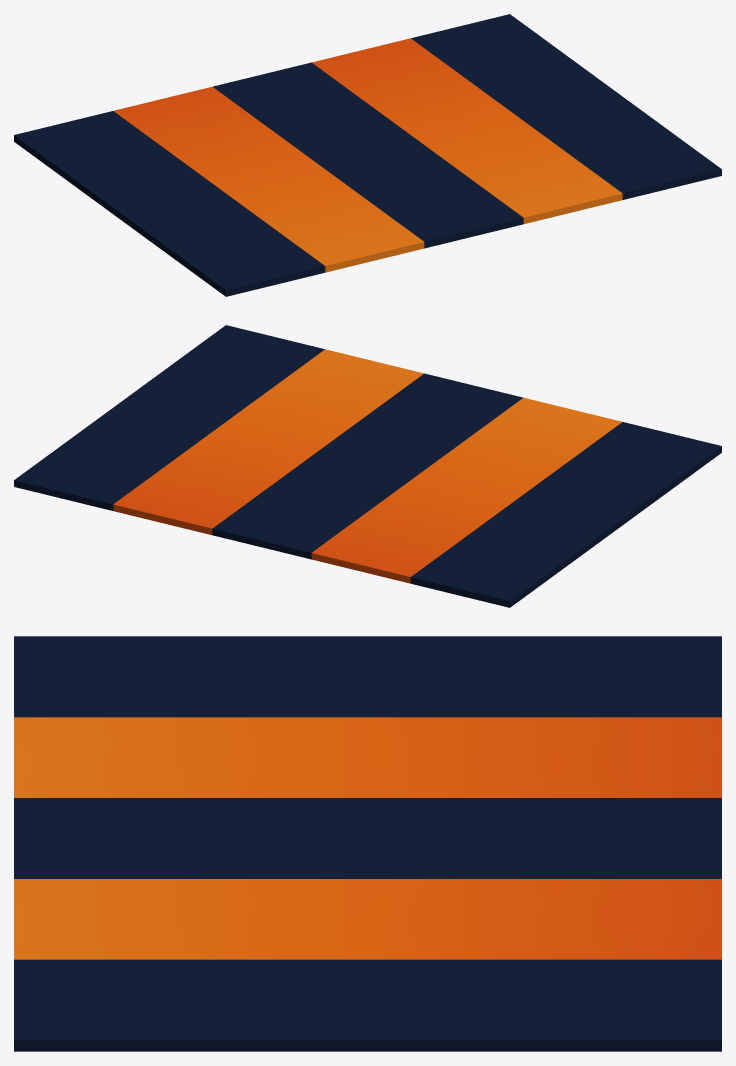
The model's file is Prop_Rug_Orangestripes.fbx.
3 views of the same model, one above another, from view 1: azimuth 30°, elevation 25°; view 2: azimuth 150°, elevation 25°; view 3: azimuth 270°, elevation 25° (orthographic). The views are drawn at different scales.
Parts seen in each view (by area): view 1: Plane.002; view 2: Plane.002; view 3: Plane.002.
Boxes of the visible parts, x1,y1,x2,y2 form: Plane.002: (14, 14, 721, 296); Plane.002: (14, 325, 721, 607); Plane.002: (14, 636, 721, 1051).
Size of the model in its own units: 270 by 3.46 by 200.
